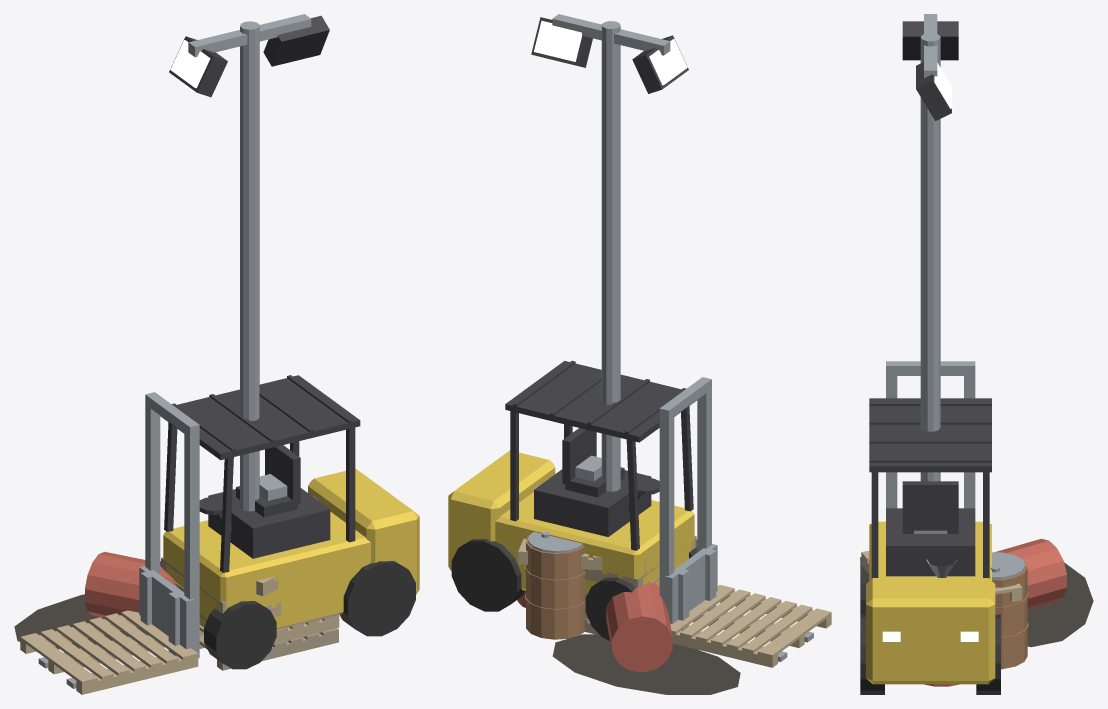
The model's file is mill_yard.glb.
3 renders of one model, left to right at view 1: azimuth 30°, elevation 25°; view 2: azimuth 150°, elevation 25°; view 3: azimuth 270°, elevation 25°, orthographic. The views are drawn at different scales.
Visible parts, largest first — view 1: hm_forklift_mesh, hm_yardlight_mesh, hm_drums_mesh, hm_pallets_mesh; view 2: hm_forklift_mesh, hm_drums_mesh, hm_yardlight_mesh, hm_pallets_mesh; view 3: hm_forklift_mesh, hm_yardlight_mesh, hm_drums_mesh, hm_pallets_mesh.
Boxes of the visible parts, <box> form: hm_forklift_mesh: <box>20,375,419,694</box>; hm_yardlight_mesh: <box>169,14,329,511</box>; hm_drums_mesh: <box>14,496,319,649</box>; hm_pallets_mesh: <box>161,550,339,670</box>; hm_forklift_mesh: <box>448,360,831,667</box>; hm_drums_mesh: <box>517,485,740,694</box>; hm_yardlight_mesh: <box>531,14,688,491</box>; hm_pallets_mesh: <box>518,536,696,634</box>; hm_forklift_mesh: <box>860,361,1000,694</box>; hm_yardlight_mesh: <box>902,14,958,533</box>; hm_drums_mesh: <box>924,538,1093,686</box>; hm_pallets_mesh: <box>861,551,1022,601</box>.
Bounding box in the file's own units: 3.51 × 6.1 × 2.09.
